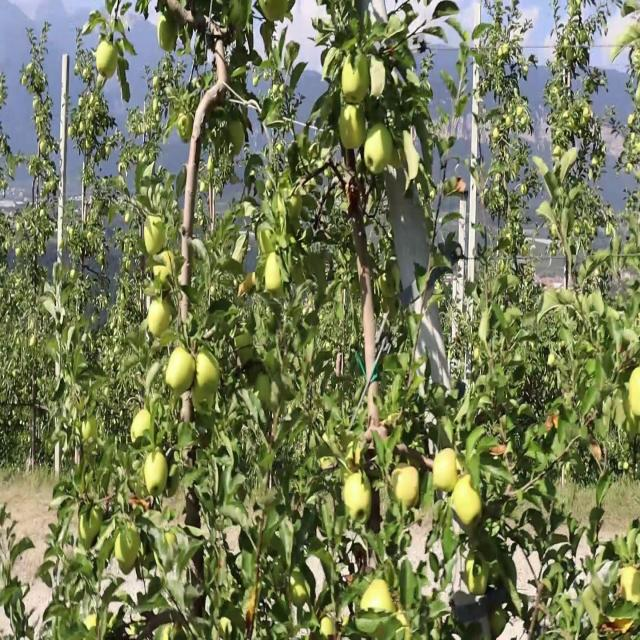apple: (360, 583, 394, 638), (452, 476, 484, 530), (364, 127, 394, 178), (344, 476, 372, 526), (344, 56, 371, 107), (168, 348, 195, 398), (392, 469, 420, 514), (340, 106, 368, 149), (436, 447, 458, 494), (148, 298, 172, 340), (144, 213, 167, 256), (144, 455, 168, 496), (196, 355, 221, 391), (96, 42, 119, 80), (464, 561, 488, 597), (116, 533, 140, 569), (264, 255, 285, 295), (620, 568, 640, 604), (132, 412, 153, 446), (116, 547, 139, 576), (228, 120, 246, 156), (624, 405, 640, 441), (368, 426, 389, 453), (156, 255, 173, 288), (160, 21, 177, 53), (260, 227, 278, 256), (292, 575, 308, 606), (288, 191, 304, 222), (629, 383, 640, 425), (392, 142, 407, 172), (492, 611, 508, 638), (180, 398, 196, 425), (632, 369, 640, 420), (180, 113, 193, 142), (84, 419, 99, 443), (544, 412, 560, 434), (244, 270, 258, 293), (252, 263, 262, 293), (132, 497, 151, 512), (84, 618, 98, 633)
